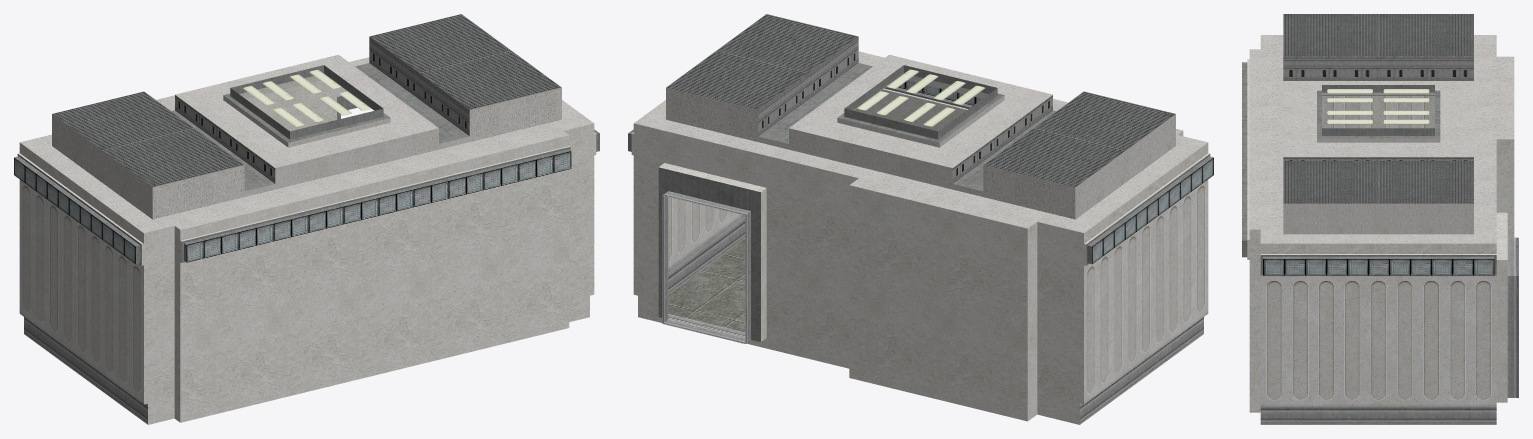
The model's file is ply_all_house_sm_s01_fp1_r4_room2_mesh.fbx.
The picture shows the model from 3 angles, left to right: view 1: azimuth 30°, elevation 25°; view 2: azimuth 150°, elevation 25°; view 3: azimuth 270°, elevation 25°; orthographic projection. The views are drawn at different scales.
Parts seen in each view (by area): view 1: mesh_node; view 2: mesh_node; view 3: mesh_node.
Boxes of the visible parts, x1,y1,x2,y2 form: mesh_node: [14, 14, 599, 424]; mesh_node: [628, 14, 1213, 424]; mesh_node: [1242, 14, 1518, 424].
Bounding box in the file's own units: 11.33 × 5.31 × 6.17.
